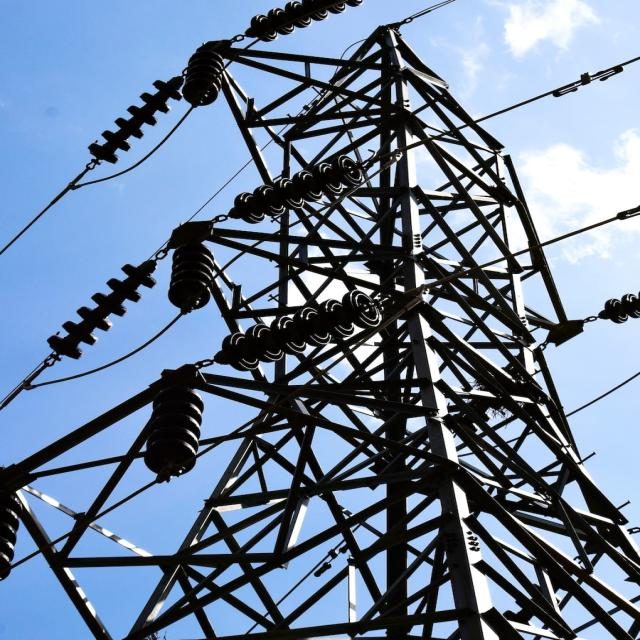insulator: (64, 79, 195, 167), (33, 268, 147, 368), (164, 232, 222, 319)
transmission tower: (125, 24, 640, 626)
